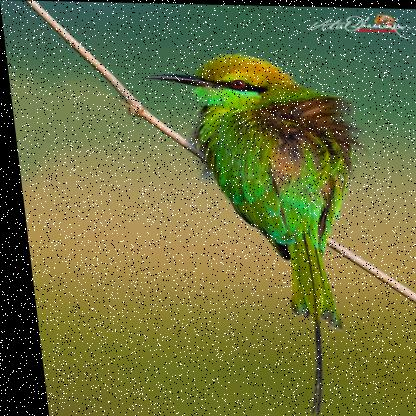Burung: (138, 47, 391, 415)
